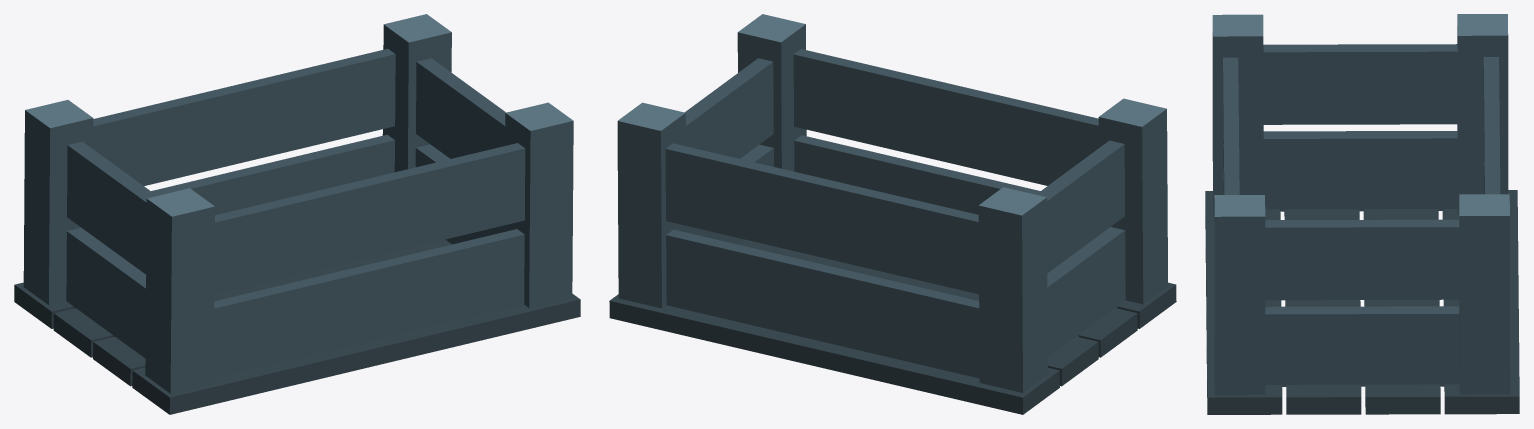
The model's file is Ship_043.glb.
3 renders of one model, left to right at view 1: azimuth 30°, elevation 25°; view 2: azimuth 150°, elevation 25°; view 3: azimuth 270°, elevation 25°, orthographic.
Parts seen in each view (by area): view 1: Ship_043; view 2: Ship_043; view 3: Ship_043.
Boxes of the visible parts, left/top/right/bottom form: Ship_043: left=14, top=14, right=580, bottom=414; Ship_043: left=609, top=14, right=1176, bottom=414; Ship_043: left=1205, top=14, right=1519, bottom=414.
Bounding box in the file's own units: 0.8427 × 0.385 × 0.5488.
1 material, 1 textured.
